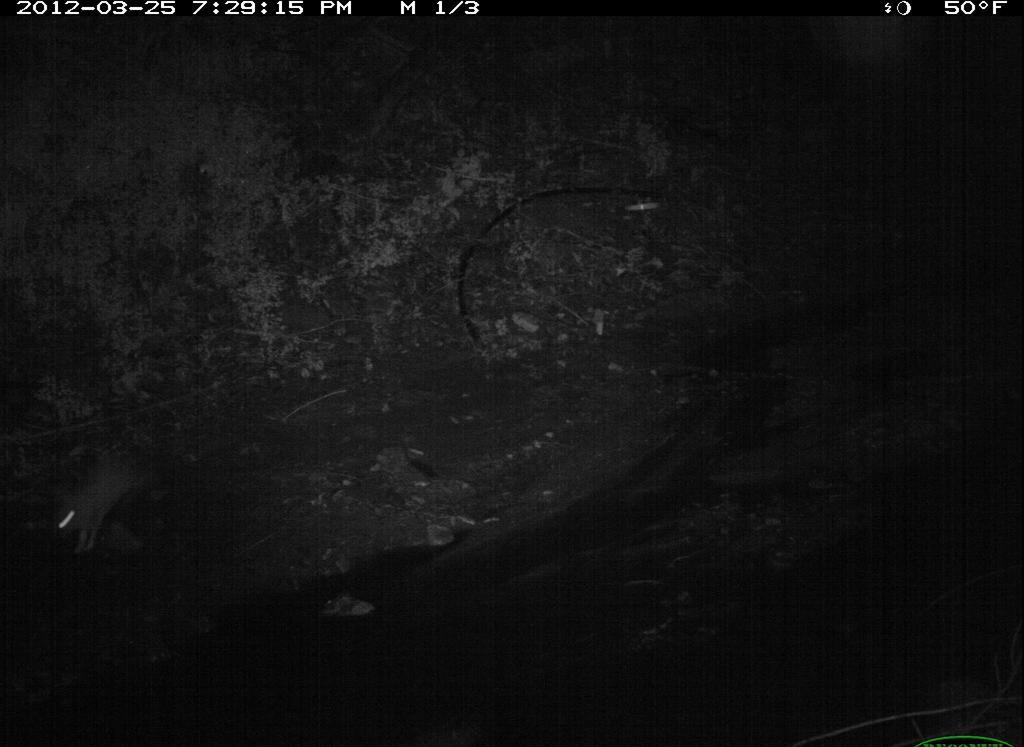rabbit: (43, 446, 166, 565)
